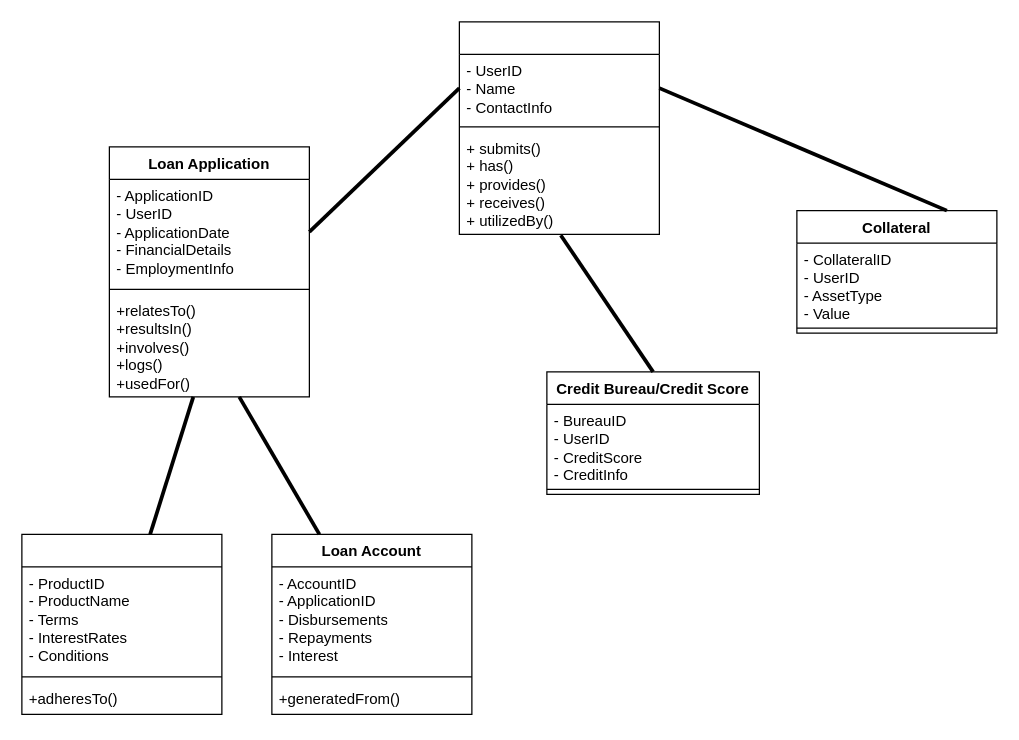
This 1019x740 diagram has some shape labels left out. Here are the shapes that lost their labels. From the top down, the box of each, then its label:
(458, 21, 659, 234): Applicant
(21, 533, 222, 714): Loan Product
